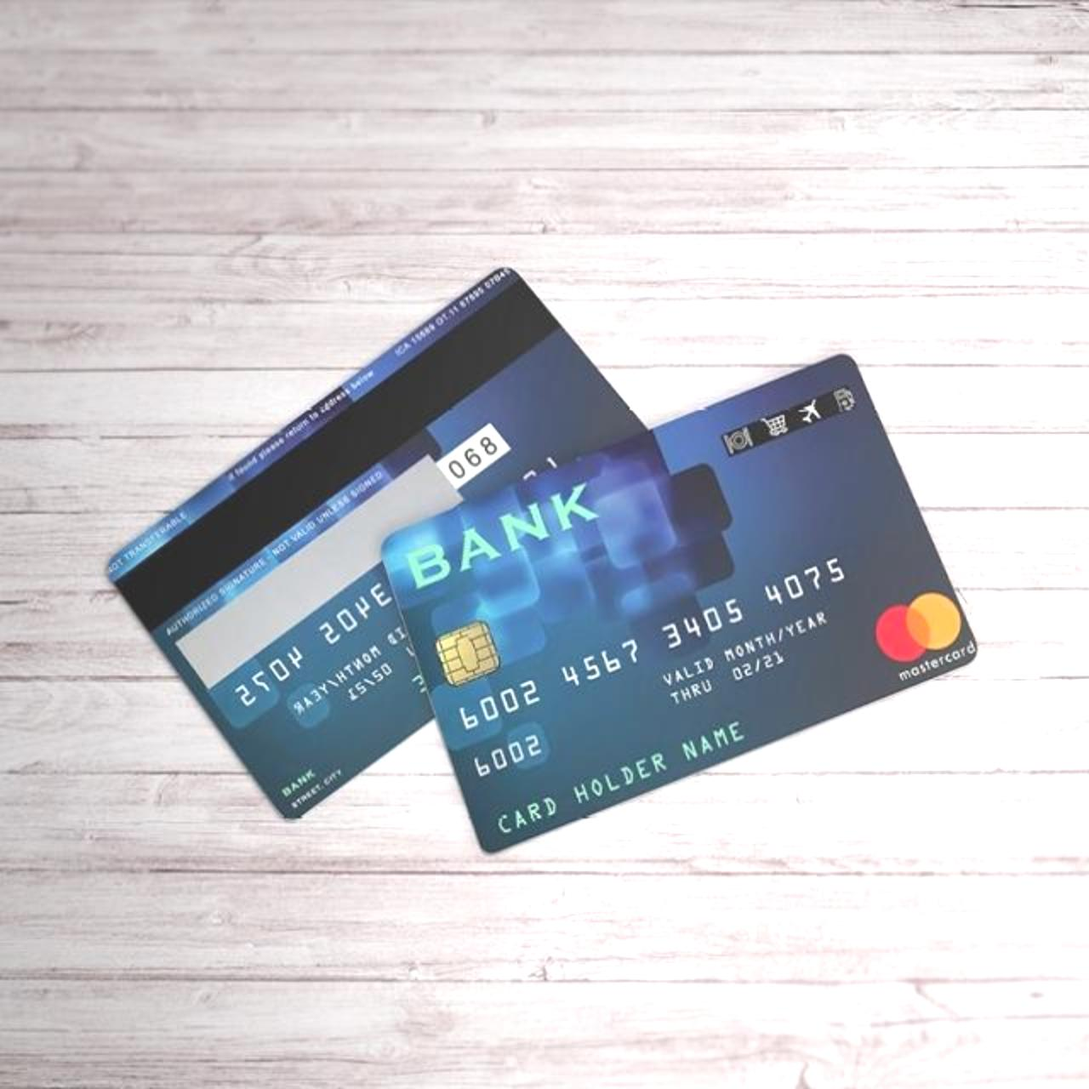credit_card: (379, 349, 981, 857), (107, 266, 651, 813)
